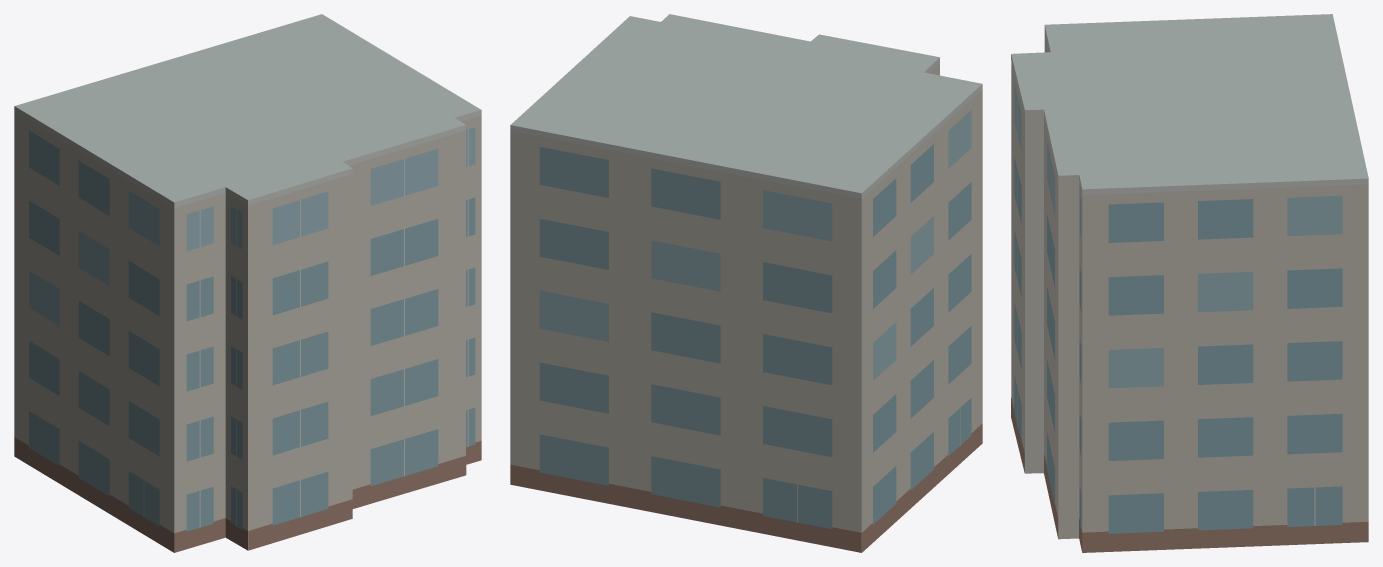
Rendered from survey-upis-32649140.glb.
3 views of the same model, side by side, from view 1: azimuth 30°, elevation 25°; view 2: azimuth 150°, elevation 25°; view 3: azimuth 270°, elevation 25° (orthographic). The views are drawn at different scales.
Visible parts, largest first — view 1: survey-upis-32649140.tmp; view 2: survey-upis-32649140.tmp; view 3: survey-upis-32649140.tmp.
Boxes of the visible parts, left/top/right/bottom form: survey-upis-32649140.tmp: left=14, top=14, right=481, bottom=552; survey-upis-32649140.tmp: left=510, top=14, right=982, bottom=552; survey-upis-32649140.tmp: left=1011, top=14, right=1368, bottom=552.
Size of the model in its own units: 15.79 by 15.25 by 13.61.
